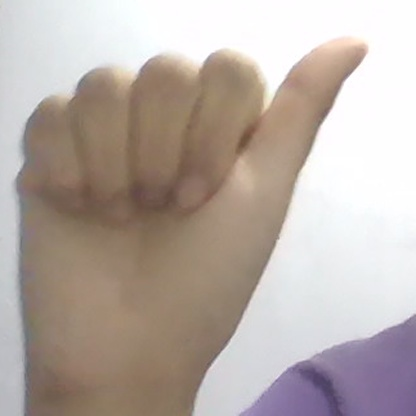A: (16, 37, 368, 386)
